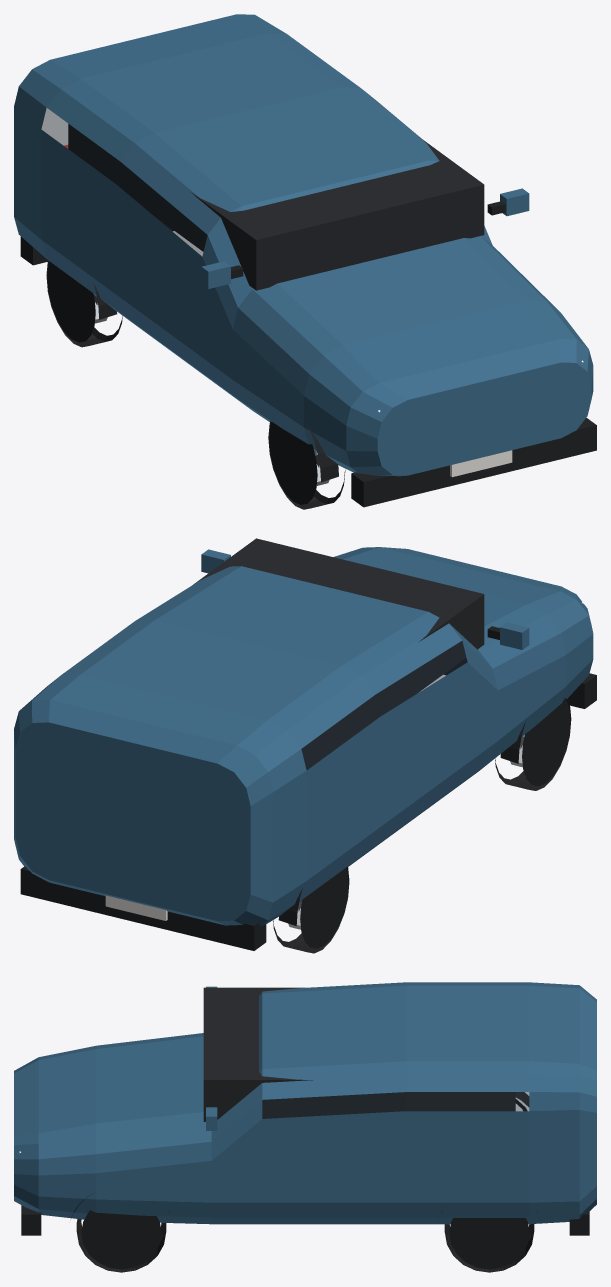
The model's file is hatchback.glb.
The picture shows the model from 3 angles, top to bottom: view 1: azimuth 30°, elevation 25°; view 2: azimuth 150°, elevation 25°; view 3: azimuth 270°, elevation 25°; orthographic projection. The views are drawn at different scales.
Visible parts, largest first — view 1: body, wheel_FL, wheel_RL; view 2: body, wheel_FL, wheel_RL; view 3: body, wheel_FR, wheel_RR.
Boxes of the visible parts, x1=… form: body: x1=14, y1=14, x2=596, y2=507; wheel_FL: x1=268, y1=421, x2=345, y2=509; wheel_RL: x1=46, y1=260, x2=122, y2=347; body: x1=14, y1=538, x2=596, y2=950; wheel_FL: x1=495, y1=698, x2=571, y2=790; wheel_RL: x1=273, y1=866, x2=349, y2=953; body: x1=14, y1=982, x2=596, y2=1235; wheel_FR: x1=76, y1=1210, x2=166, y2=1272; wheel_RR: x1=444, y1=1218, x2=534, y2=1272.
Bounding box in the file's own units: 2.13 × 1.52 × 4.04.
